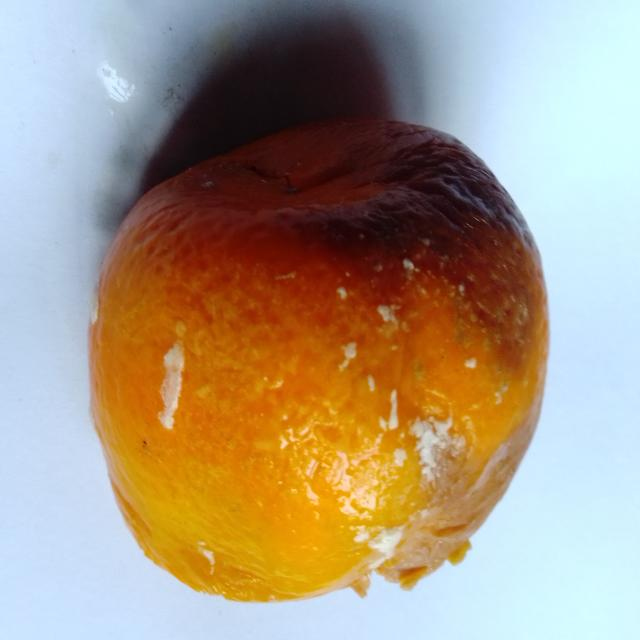orange: (90, 120, 547, 600)
